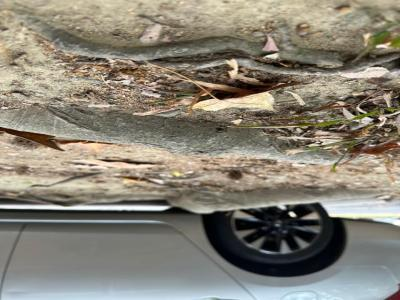Root: (14, 9, 399, 74), (0, 106, 331, 161)
